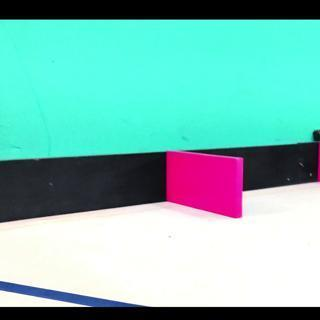xparking: (174, 160, 241, 219)
